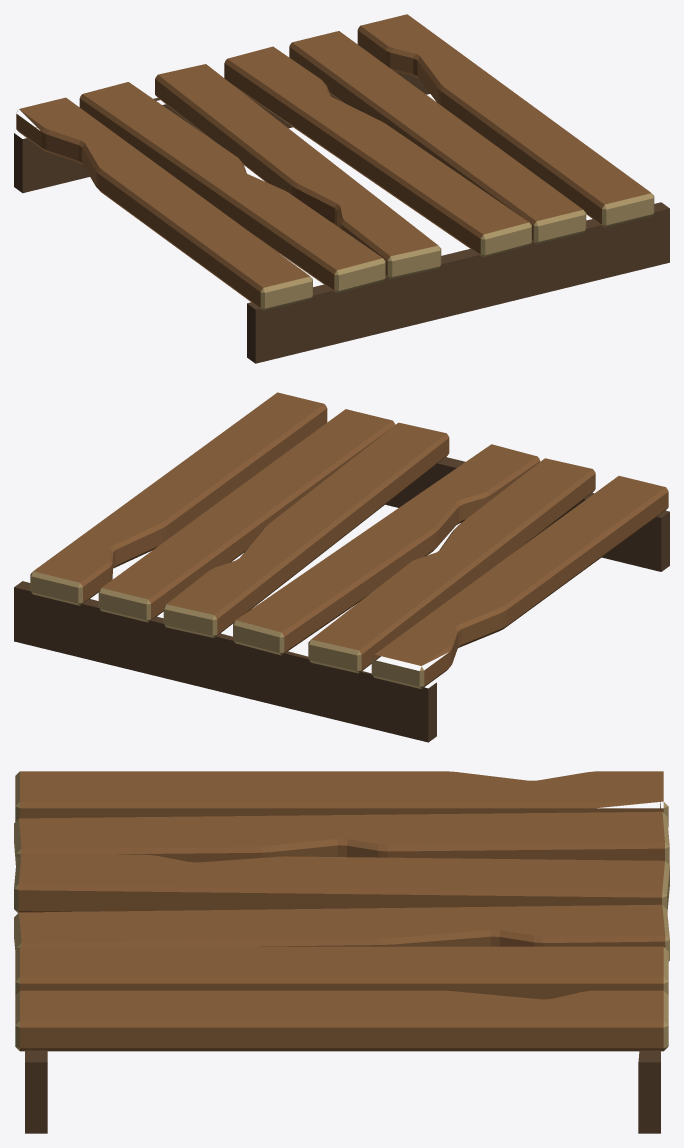
File: Dock.glb
3 views of the same model, one above another, from view 1: azimuth 30°, elevation 25°; view 2: azimuth 150°, elevation 25°; view 3: azimuth 270°, elevation 25° (orthographic). The views are drawn at different scales.
Visible parts, largest first — view 1: Environment_Dock; view 2: Environment_Dock; view 3: Environment_Dock.
Boxes of the visible parts, box(x1,y1,x2,y2) form: Environment_Dock: box(14, 14, 669, 363); Environment_Dock: box(14, 392, 669, 742); Environment_Dock: box(14, 771, 669, 1133).
Size of the model in its own units: 2 by 0.3495 by 2.08.
1 material, 1 textured.
